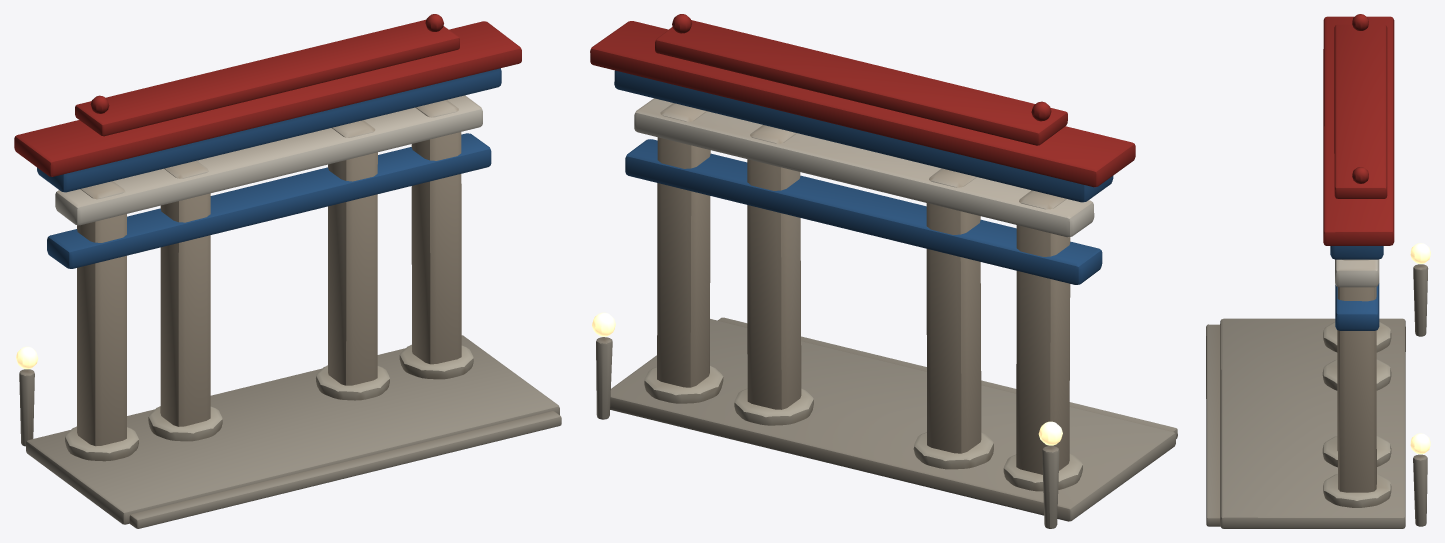
The picture shows the model from 3 angles, left to right: view 1: azimuth 30°, elevation 25°; view 2: azimuth 150°, elevation 25°; view 3: azimuth 270°, elevation 25°; orthographic projection. The views are drawn at different scales.
Visible parts, largest first — view 1: gate_d419ab57; view 2: gate_d419ab57; view 3: gate_d419ab57.
Boxes of the visible parts, x1,y1,x2,y2 form: gate_d419ab57: [14, 14, 561, 528]; gate_d419ab57: [590, 14, 1177, 528]; gate_d419ab57: [1206, 14, 1430, 528].
Size of the model in its own units: 5.8 by 4.25 by 2.55.
